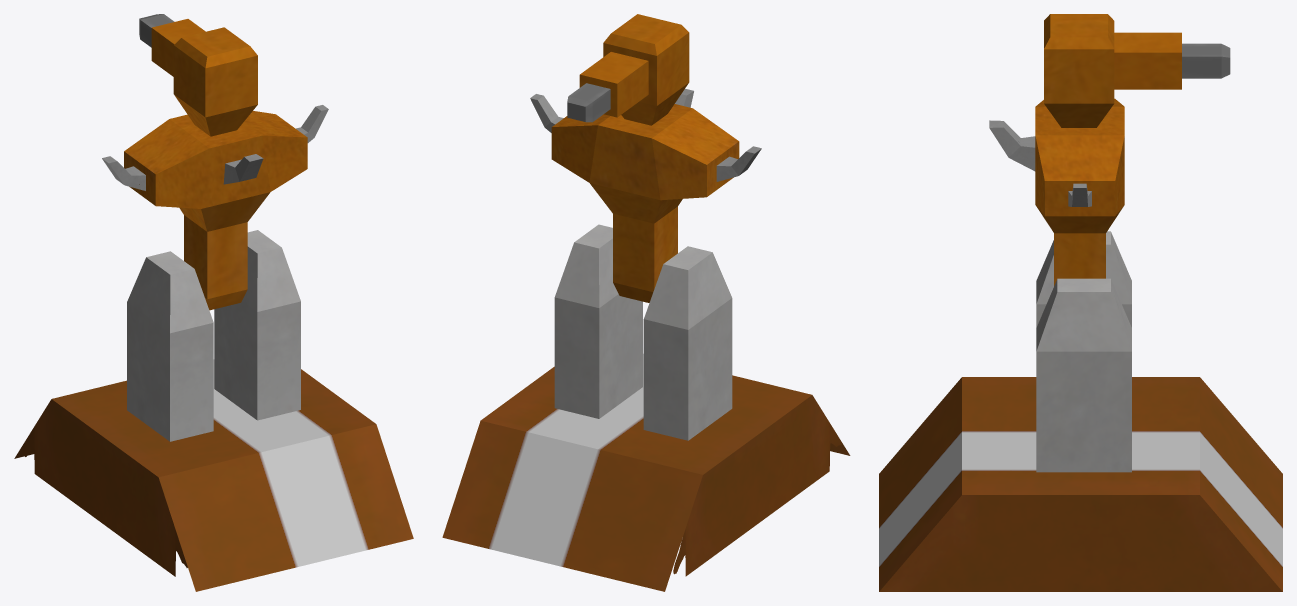
File: TorreNormalAMAST3.fbx
3 renders of one model, left to right at view 1: azimuth 30°, elevation 25°; view 2: azimuth 150°, elevation 25°; view 3: azimuth 270°, elevation 25°, orthographic. The views are drawn at different scales.
Parts seen in each view (by area): view 1: Base, Torre; view 2: Base, Torre; view 3: Base, Torre.
Part boxes in pixels (left/top/right/bottom): Base: left=14, top=105, right=413, bottom=591; Torre: left=139, top=14, right=257, bottom=136; Base: left=442, top=88, right=850, bottom=591; Torre: left=567, top=14, right=689, bottom=125; Base: left=879, top=98, right=1282, bottom=591; Torre: left=1044, top=14, right=1230, bottom=127.
Bounding box in the file's own units: 1.97 × 3.89 × 2.8.
